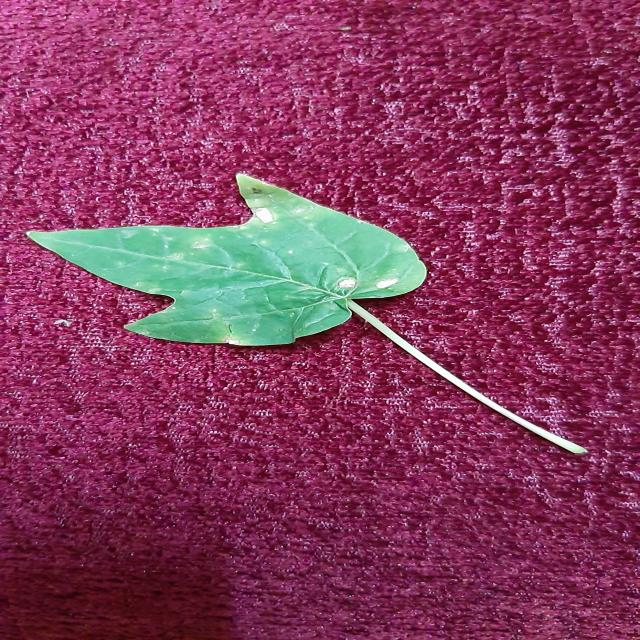papaya: (27, 174, 488, 402)
